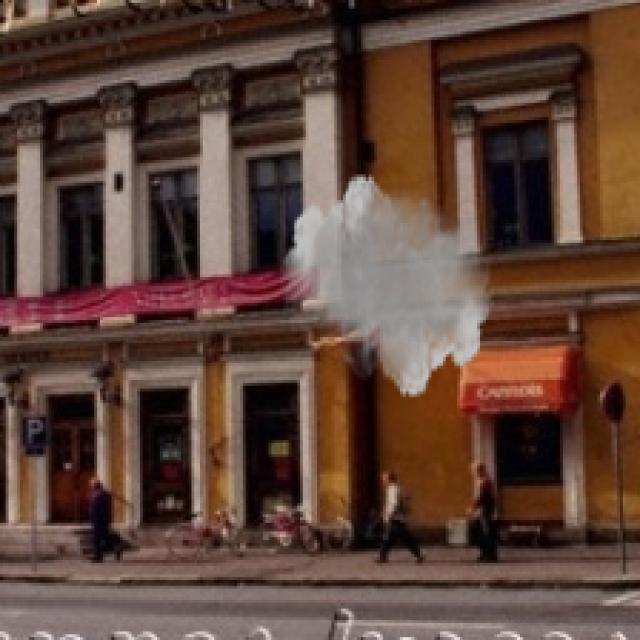smoke: (280, 171, 494, 400)
